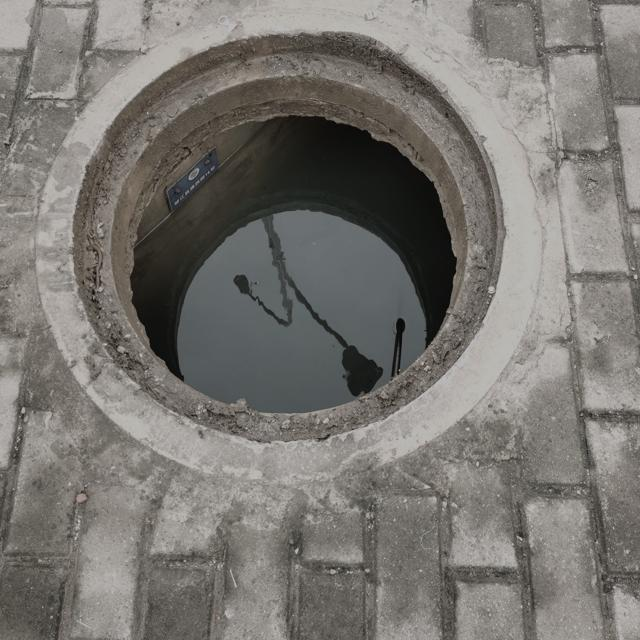lose: (31, 9, 542, 480)
